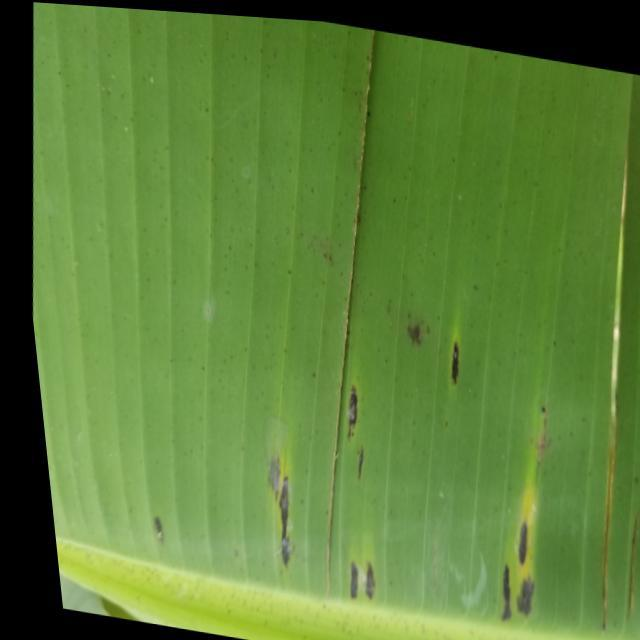Early_rust: (260, 313, 553, 639), (143, 511, 187, 569)
